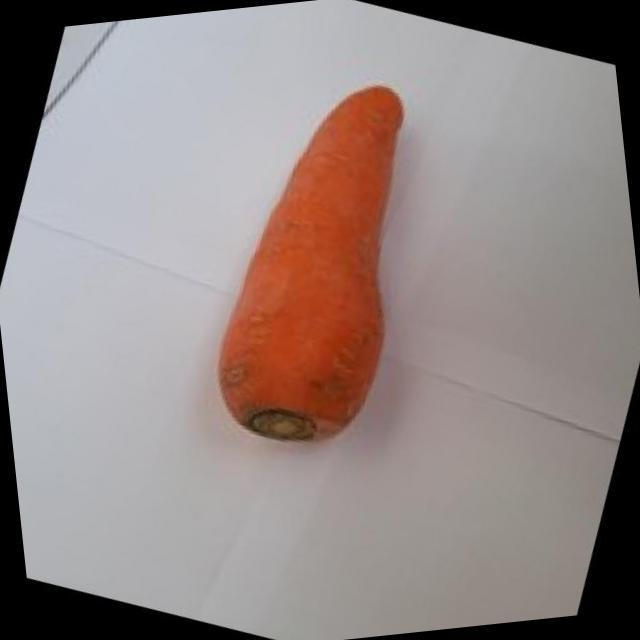carrot: (139, 33, 488, 494)
